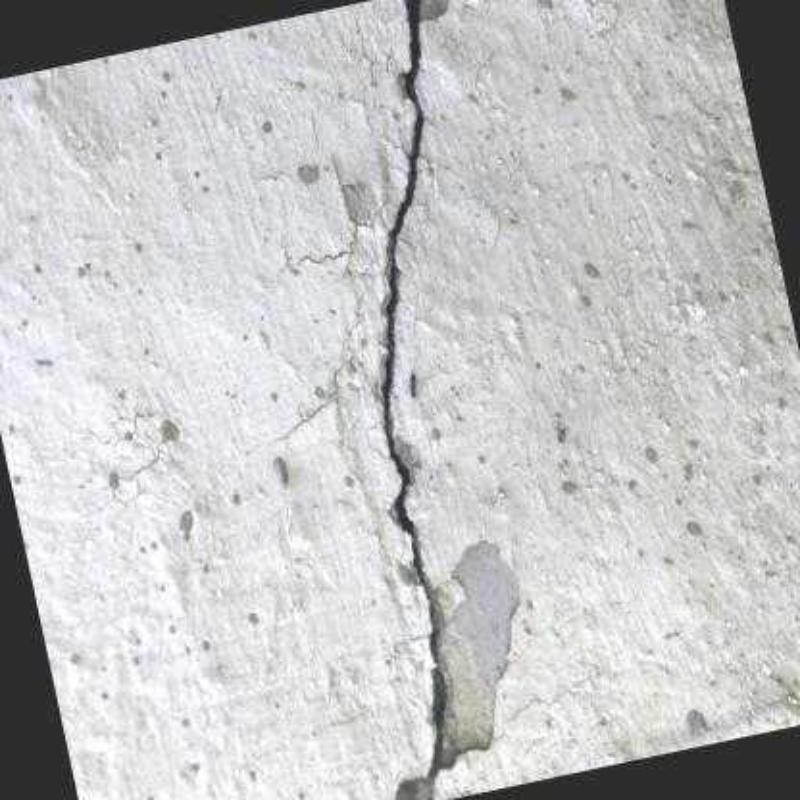pothole: (379, 0, 456, 794), (300, 158, 358, 277), (285, 367, 342, 437), (119, 442, 163, 483)
